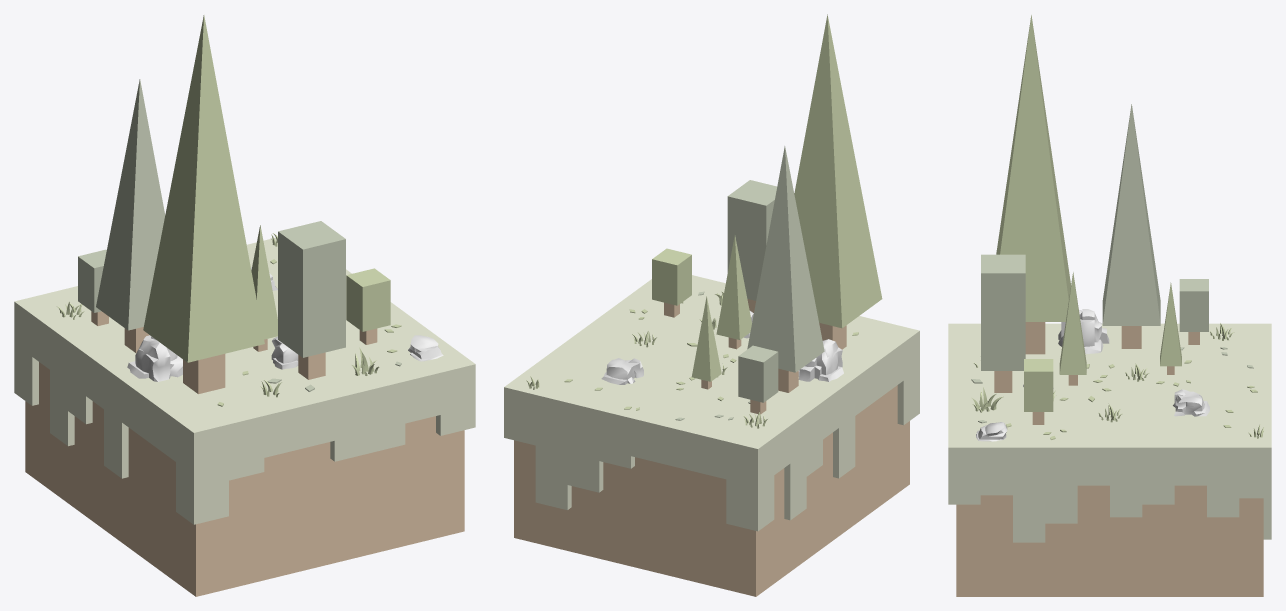
File: plattform_start_6.dae
The picture shows the model from 3 angles, left to right: view 1: azimuth 30°, elevation 25°; view 2: azimuth 150°, elevation 25°; view 3: azimuth 270°, elevation 25°; orthographic projection. The views are drawn at different scales.
Visible parts, largest first — view 1: top, down, treetop.006, treetop.005, treetop.004, treetop, rock1, treetop.003, trunk.006, treetop.001, rock3, trunk.004 (+1 smaller); view 2: top, down, treetop.006, treetop.005, treetop.004, treetop.001, treetop.003, treetop, treetop.002, rock1, rock4; view 3: top, down, treetop.006, treetop.005, treetop.004, treetop.003, treetop, treetop.001, treetop.002, rock1, rock4, trunk.006 (+2 smaller).
Boxes of the visible parts, x1=… form: top: x1=14, y1=237, x2=475, y2=524; down: x1=25, y1=362, x2=464, y2=596; treetop.006: x1=143, y1=15, x2=264, y2=362; treetop.005: x1=96, y1=79, x2=165, y2=330; treetop.004: x1=278, y1=221, x2=345, y2=357; treetop: x1=346, y1=268, x2=390, y2=331; rock1: x1=127, y1=335, x2=182, y2=381; treetop.003: x1=251, y1=225, x2=277, y2=339; trunk.006: x1=183, y1=354, x2=225, y2=394; treetop.001: x1=78, y1=249, x2=106, y2=312; rock3: x1=408, y1=335, x2=443, y2=361; trunk.004: x1=298, y1=352, x2=325, y2=379; top: x1=504, y1=275, x2=919, y2=531; down: x1=514, y1=385, x2=909, y2=596; treetop.006: x1=794, y1=14, x2=882, y2=328; treetop.005: x1=747, y1=146, x2=824, y2=372; treetop.004: x1=727, y1=180, x2=776, y2=300; treetop.001: x1=738, y1=345, x2=778, y2=402; treetop.003: x1=716, y1=235, x2=751, y2=339; treetop: x1=652, y1=248, x2=691, y2=305; treetop.002: x1=691, y1=296, x2=721, y2=381; rock1: x1=798, y1=339, x2=843, y2=381; rock4: x1=601, y1=358, x2=643, y2=384; top: x1=948, y1=323, x2=1271, y2=542; down: x1=956, y1=485, x2=1263, y2=596; treetop.006: x1=996, y1=15, x2=1070, y2=321; treetop.005: x1=1102, y1=104, x2=1160, y2=325; treetop.004: x1=981, y1=254, x2=1025, y2=370; treetop.003: x1=1059, y1=272, x2=1086, y2=374; treetop: x1=1024, y1=359, x2=1053, y2=411; treetop.001: x1=1179, y1=279, x2=1208, y2=331; treetop.002: x1=1160, y1=282, x2=1181, y2=366; rock1: x1=1058, y1=309, x2=1109, y2=353; rock4: x1=1173, y1=389, x2=1209, y2=416; trunk.006: x1=1025, y1=322, x2=1045, y2=354.
Size of the model in its own units: 210 by 232 by 385.
